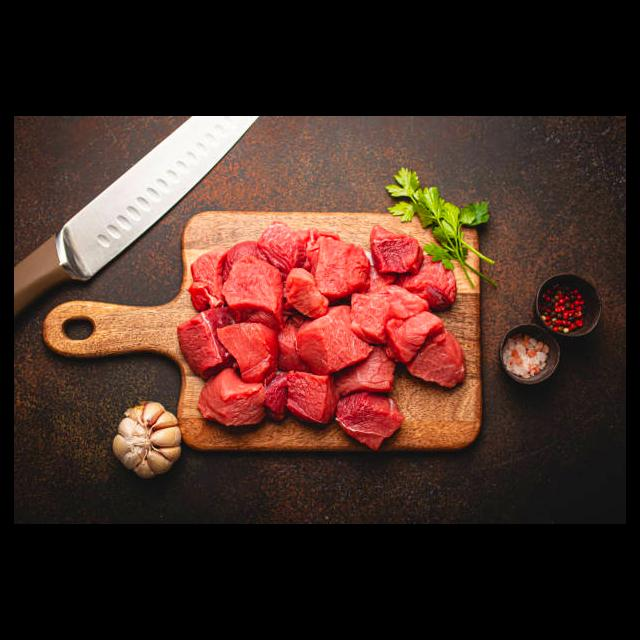beef: (181, 224, 466, 449)
